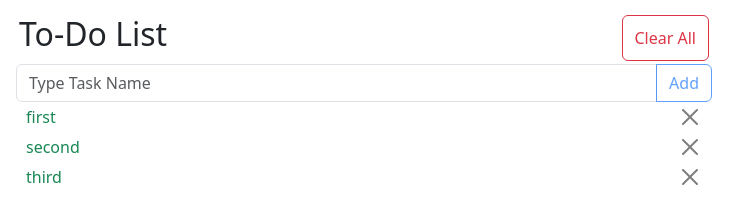
Scenario: to do list › delete item to list
Expected: the number of list items is 3, [16,102,712,132]; [16,132,712,162]; [16,162,712,192]
// delete ites
Click the button named "Close" in the row of "first".
click(690, 117)  # box [678,105,702,129]
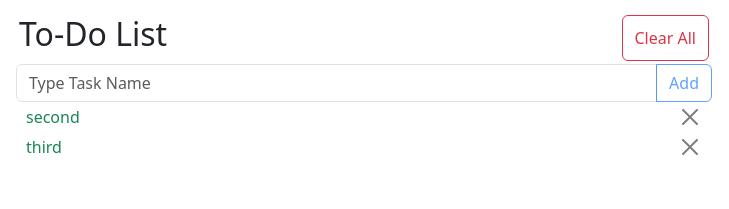
Expected: the number of list items is 2, [16,102,712,132]; [16,132,712,162]
